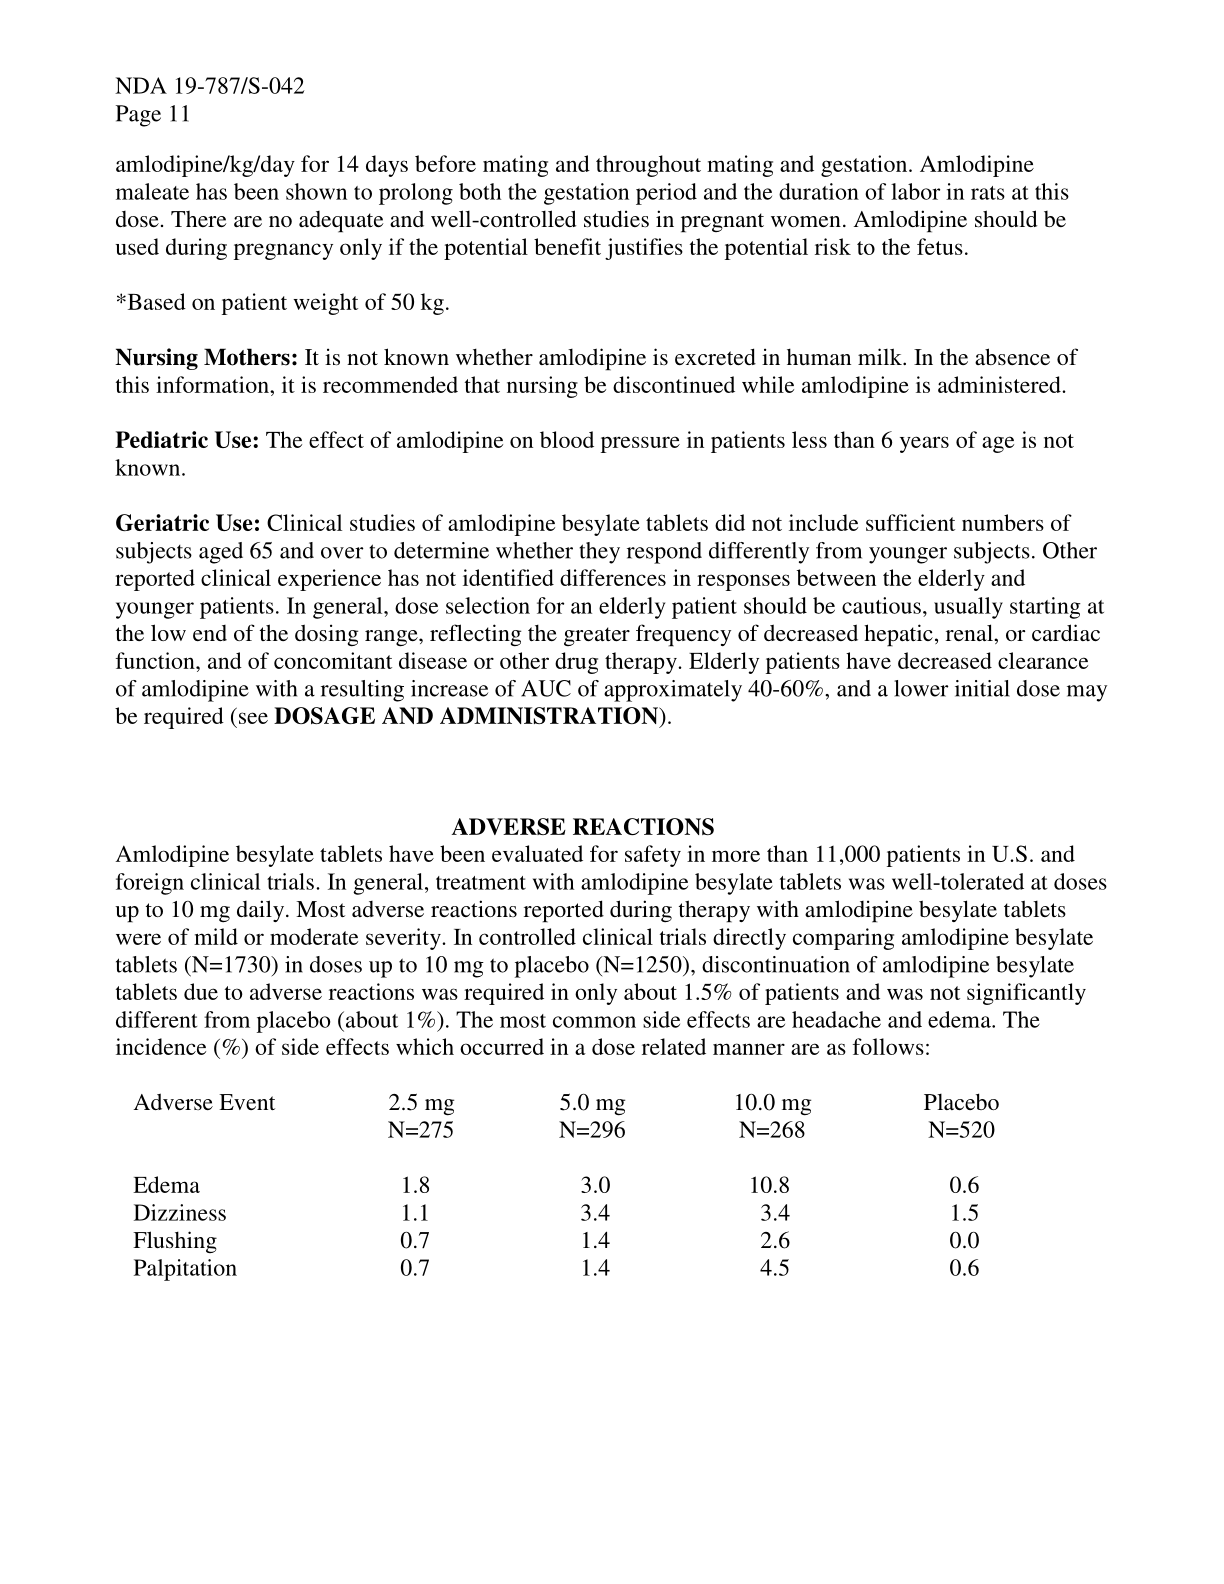nolines: (131, 1088, 996, 1282)
